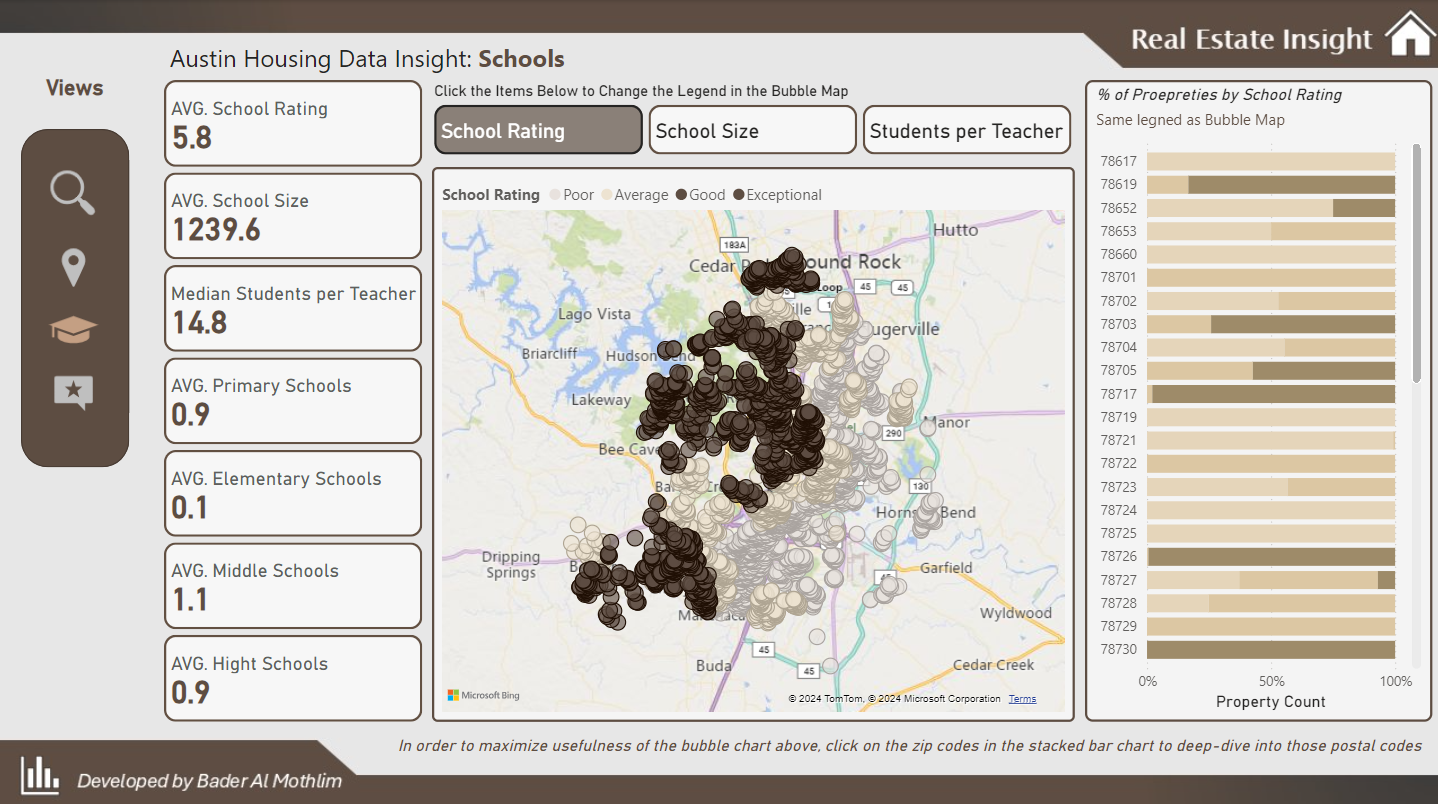

Layout of this report page (visuals, bound fields, positions):
{"tool":"powerbi","page":{"name":"School","canvas":[1280,720],"ordinal":3},"visuals":[{"type":"cardVisual","fields":{"Data":["Avg(schools.avgSchoolRating)","Avg(schools.avgSchoolSize)","Avg(schools.MedianStudentsPerTeacher)","Avg(schools.numOfPrimarySchools)","Avg(schools.numOfElementarySchools)","Avg(schools.numOfMiddleSchools)","Avg(schools.numOfHighSchools)"]},"box":[88.9,104.4,258.9,601.1],"z":0},{"type":"map","fields":{"Series":["schools.Group (Rating)"],"Y":["location.latitude"],"X":["location.longitude"]},"box":[355.6,105.6,596.7,600],"z":1000},{"type":"advancedSlicerVisual","fields":{"Values":["Parameter (School Groups).Parameter (School Groups)"]},"box":[351.1,10,596.7,76.7],"z":2000},{"type":"hundredPercentStackedBarChart","fields":{"Series":["schools.Group (Rating)"],"Category":["location.zipcode"],"Y":["_measures.Property Count"]},"box":[963,106,317,600],"z":3000}]}

Visuals, with their boxes in screenshot pixels (x1, y1, x2, y2), scaled from the page's 1280x720 canvas onto the 1438x804 screenshot:
cardVisual - Avg(schools.avgSchoolRating) x Avg(schools.avgSchoolSize): 100,117,391,788
map - schools.Group (Rating) x location.latitude: 399,118,1070,788
advancedSlicerVisual - Parameter (School Groups).Parameter (School Groups): 394,11,1065,97
hundredPercentStackedBarChart - schools.Group (Rating) x location.zipcode: 1082,118,1437,788
